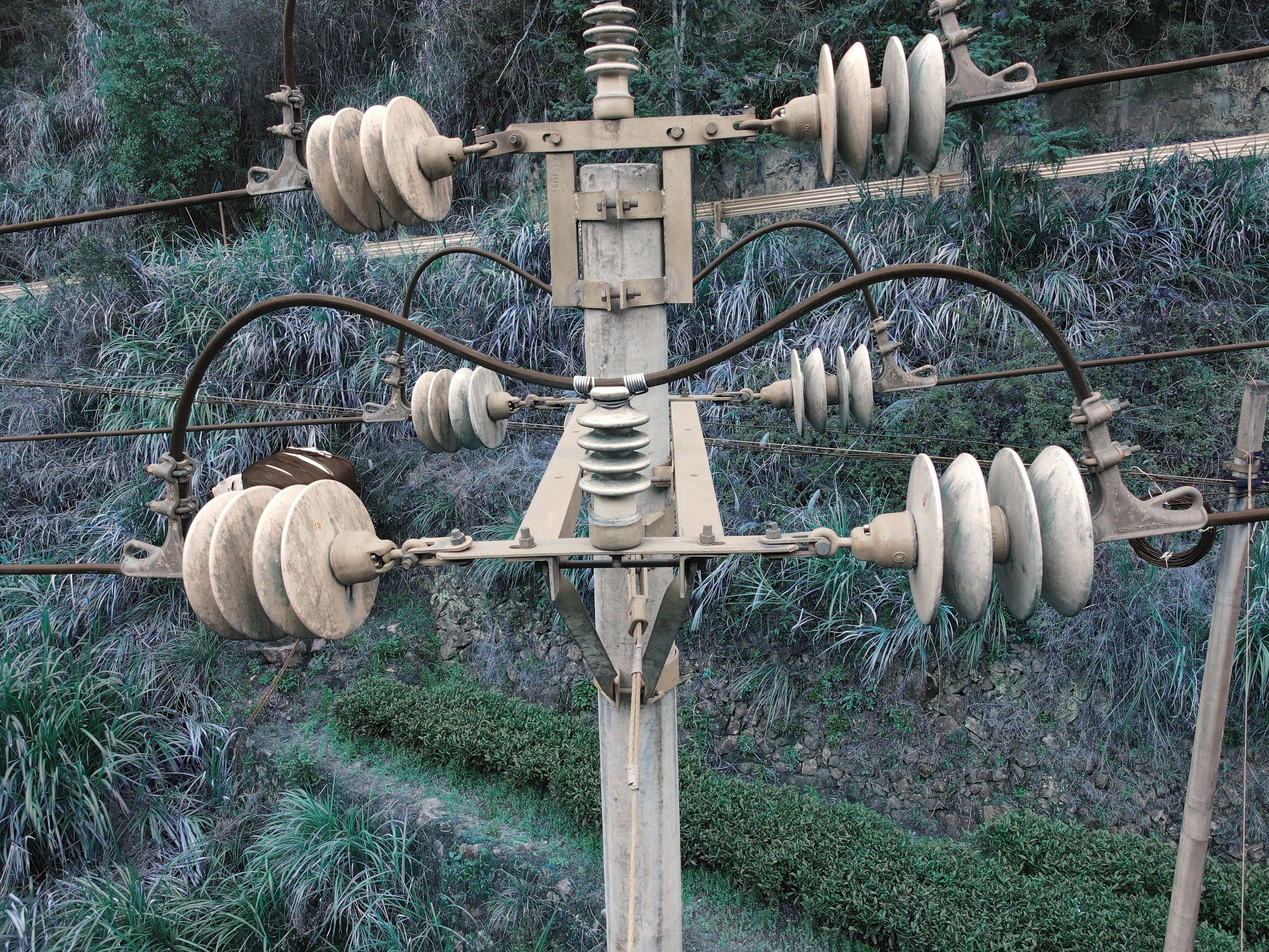severe_soiling_no_discharge_whole: (852, 437, 1103, 626), (178, 473, 400, 641), (776, 32, 954, 179), (302, 92, 465, 232), (574, 381, 650, 549), (764, 343, 878, 438), (409, 366, 516, 456), (581, 2, 643, 118)
